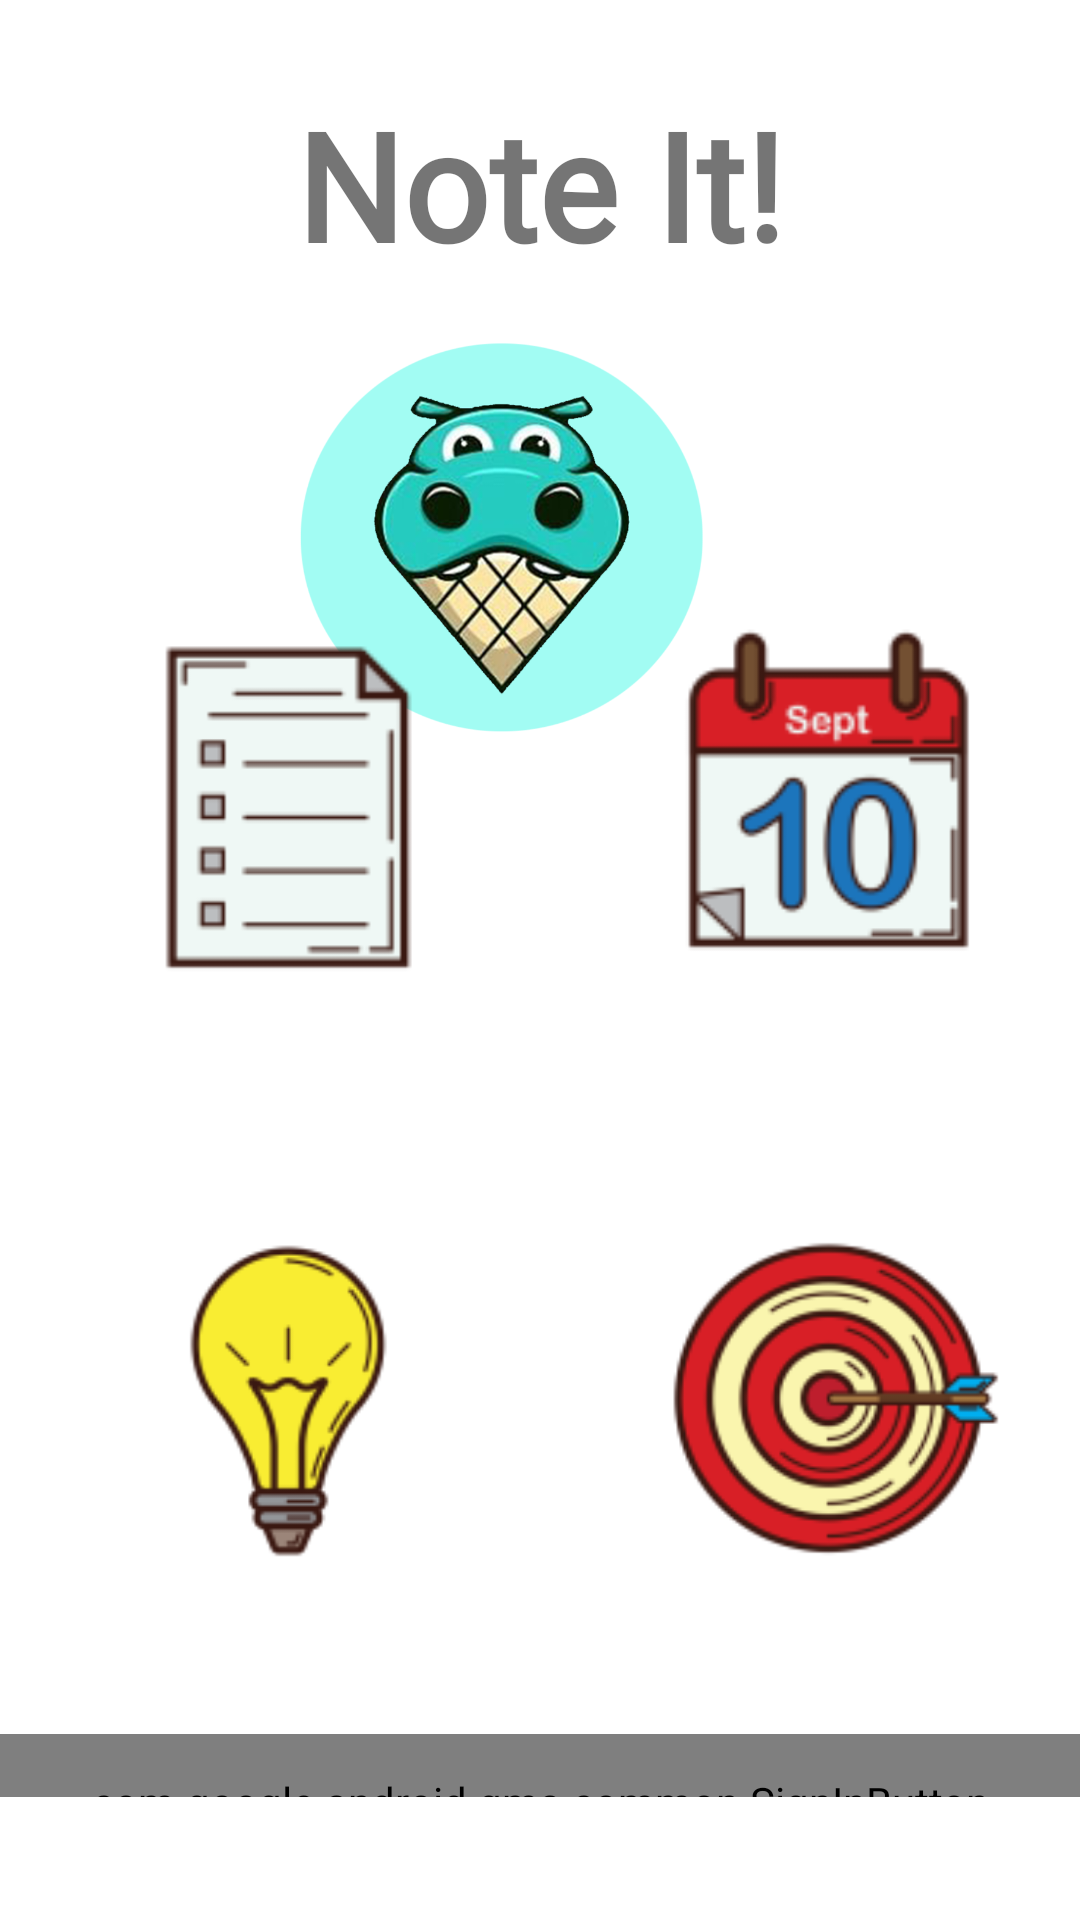

Icons on this 1080w x 1920h Android screen, each with the point to tap as (x=x, y=y):
calendar: (x=828, y=790)
